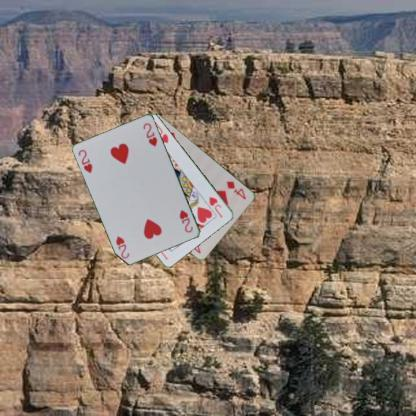2h: (76, 146, 94, 174), (178, 207, 194, 234)
4d: (224, 178, 247, 200)
Jh: (206, 194, 224, 219)
